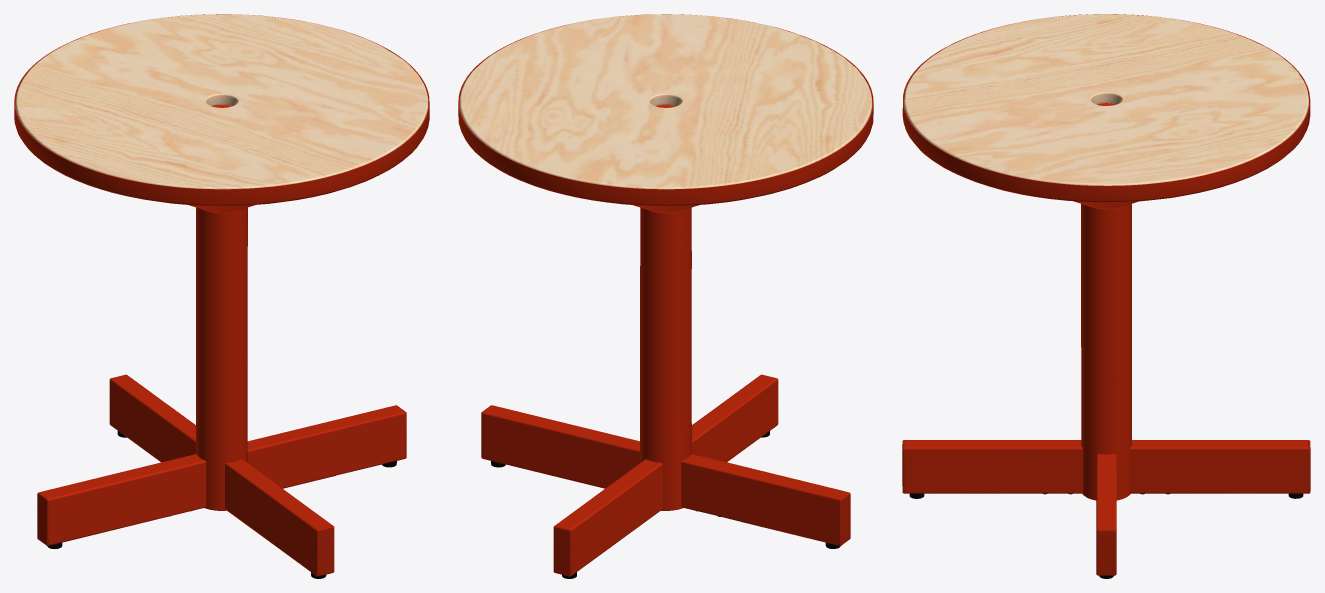
Rendered from grimsarbo_stolik_50606167.glb.
3 renders of one model, left to right at view 1: azimuth 30°, elevation 25°; view 2: azimuth 150°, elevation 25°; view 3: azimuth 270°, elevation 25°, orthographic.
Parts seen in each view (by area): view 1: grimsarbo_stolik_50606167; view 2: grimsarbo_stolik_50606167; view 3: grimsarbo_stolik_50606167.
Part boxes in pixels (box(x1,y1,x2,y2)): grimsarbo_stolik_50606167: box(14, 14, 429, 578); grimsarbo_stolik_50606167: box(458, 14, 873, 578); grimsarbo_stolik_50606167: box(902, 14, 1310, 578).
Size of the model in its own units: 0.4007 by 0.43 by 0.4007.
1 material, 1 textured.
